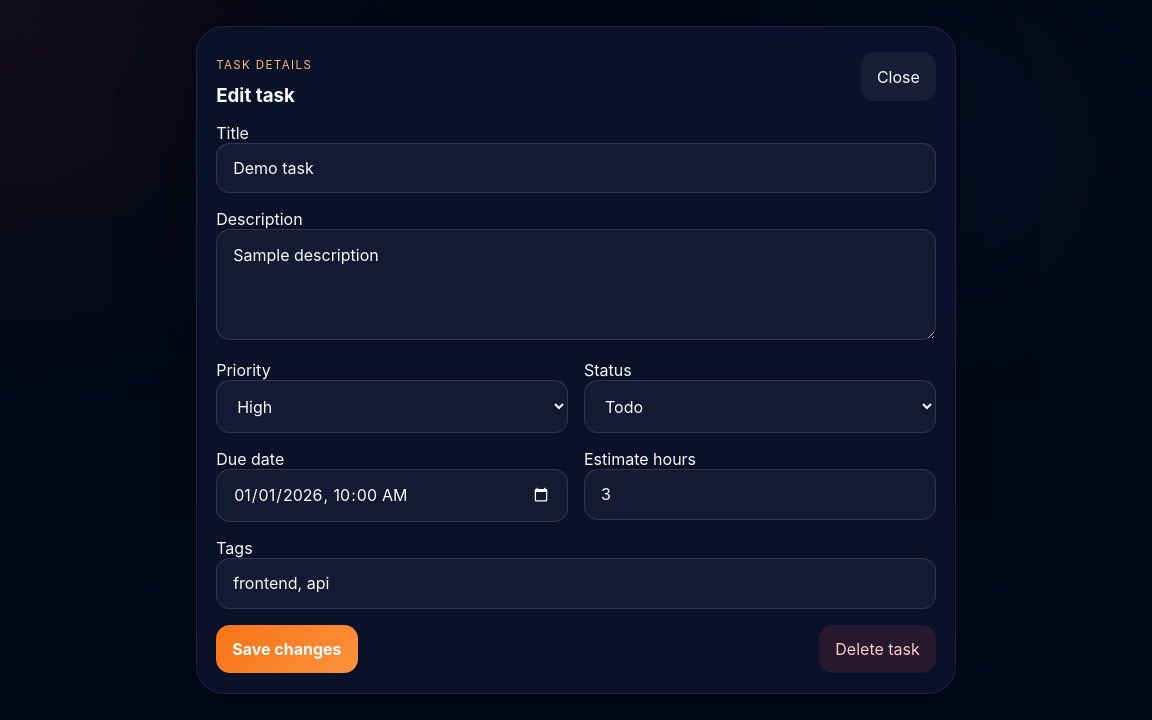
Scenario: TaskModal › renders edit fields and opens delete confirmation
Expected: the field labelled "Title" holds "Demo task", [216,143,936,194]
Expected: the heading "Edit task" is shown, [216,84,295,107]
Click the button "Delete task" at (878, 649), box [819,625,936,673]
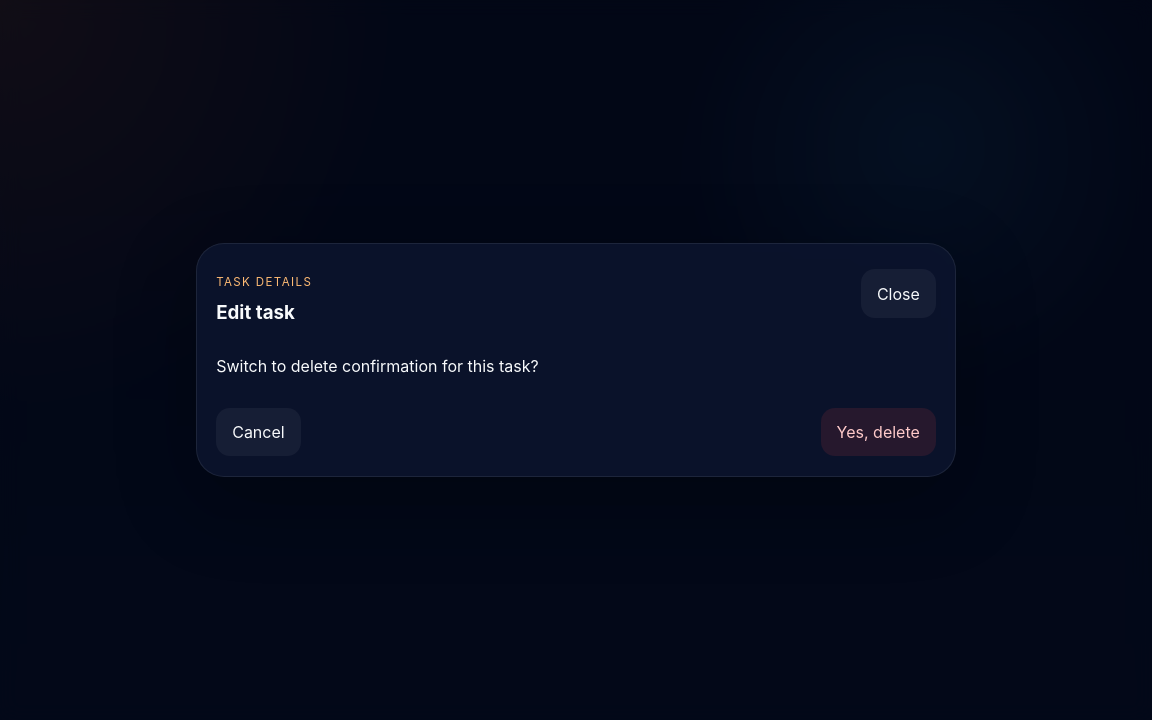
Expected: the text "Switch to delete confirmation for this task?" is shown, [216,356,539,376]
